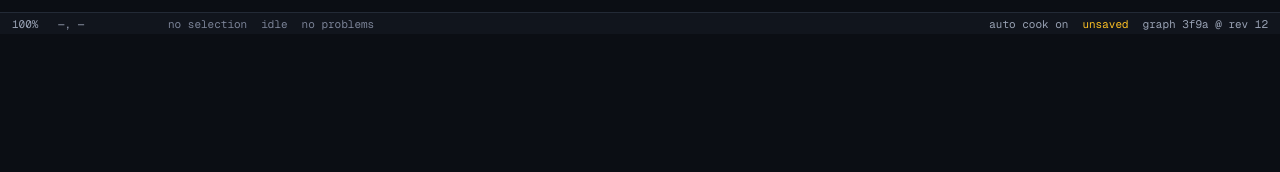
it: StatusBar › shows save state and the graph id
Expected: the text with test id "nb-status-graph" reads "graph 3f9a @ rev 12", [1143,16,1268,30]
Click the button with test id "nb-status-saved": (1106, 24) [1080,14,1131,32]
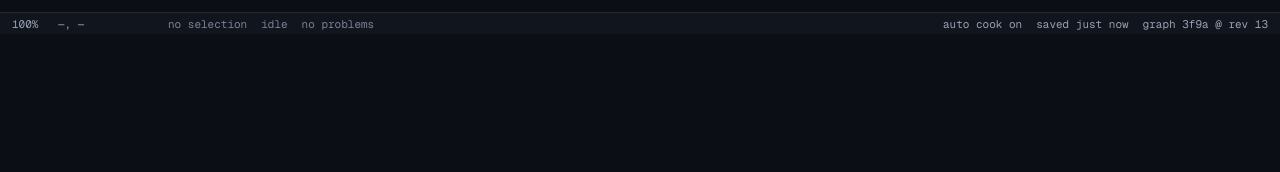
Now the text with test id "nb-status-saved" reads "saved just now", box [1036,16,1129,30]
Now the text with test id "nb-status-graph" shows "rev 13", box [1143,16,1268,30]
